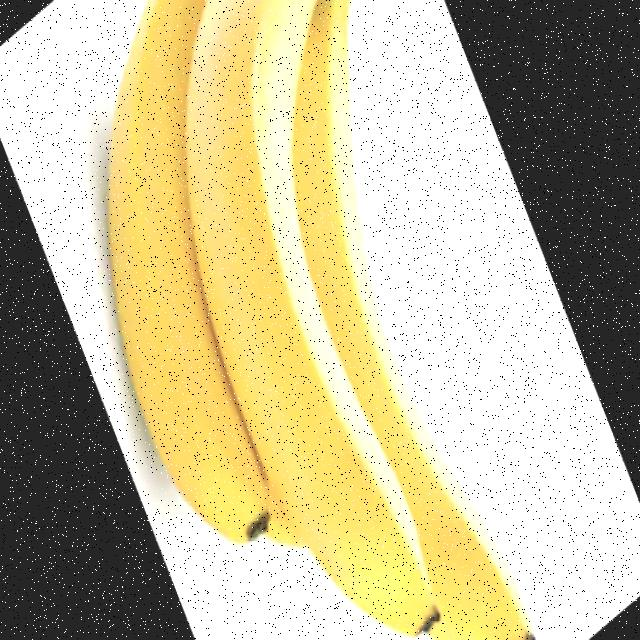god quality banana: (108, 2, 531, 639)
